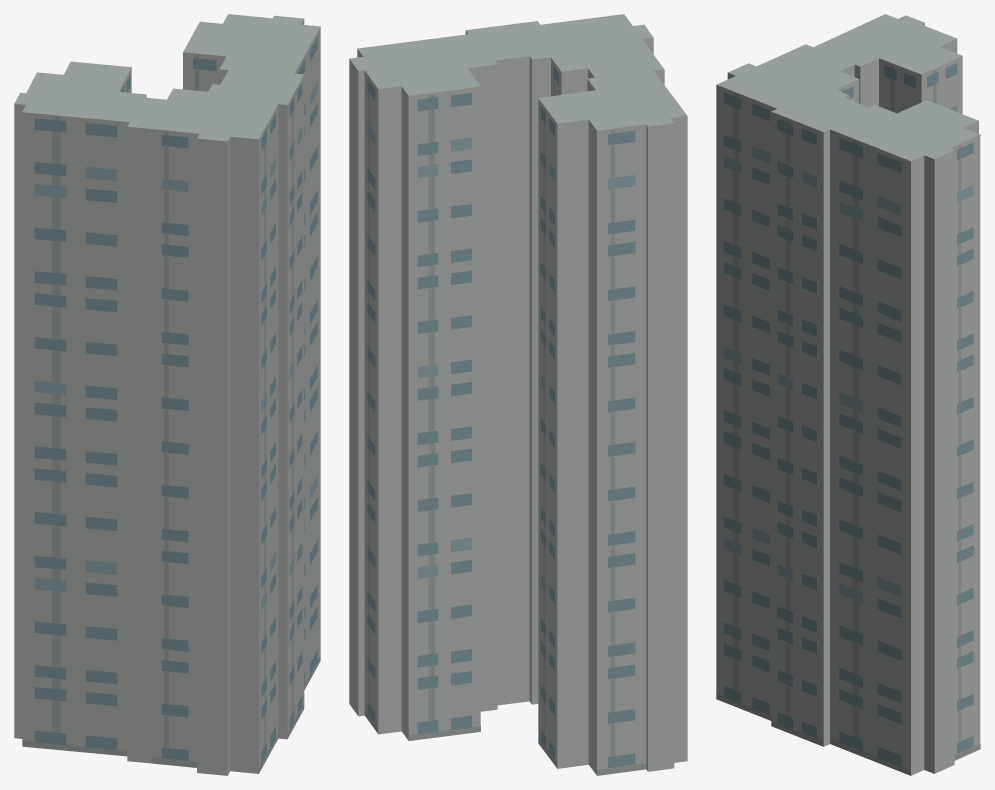
The model's file is residential-ec7941f5-b93d-49de-a02c-010120b7564f.glb.
The picture shows the model from 3 angles, left to right: view 1: azimuth 30°, elevation 25°; view 2: azimuth 150°, elevation 25°; view 3: azimuth 270°, elevation 25°; orthographic projection. The views are drawn at different scales.
Parts seen in each view (by area): view 1: residential-ec7941f5-b93d-49de-a02c-010120b7564f.tmp; view 2: residential-ec7941f5-b93d-49de-a02c-010120b7564f.tmp; view 3: residential-ec7941f5-b93d-49de-a02c-010120b7564f.tmp.
Part boxes in pixels (<box>): residential-ec7941f5-b93d-49de-a02c-010120b7564f.tmp: <box>14,14,320,775</box>; residential-ec7941f5-b93d-49de-a02c-010120b7564f.tmp: <box>349,14,687,775</box>; residential-ec7941f5-b93d-49de-a02c-010120b7564f.tmp: <box>716,14,980,775</box>.
Size of the model in its own units: 47.29 by 92 by 35.82.
